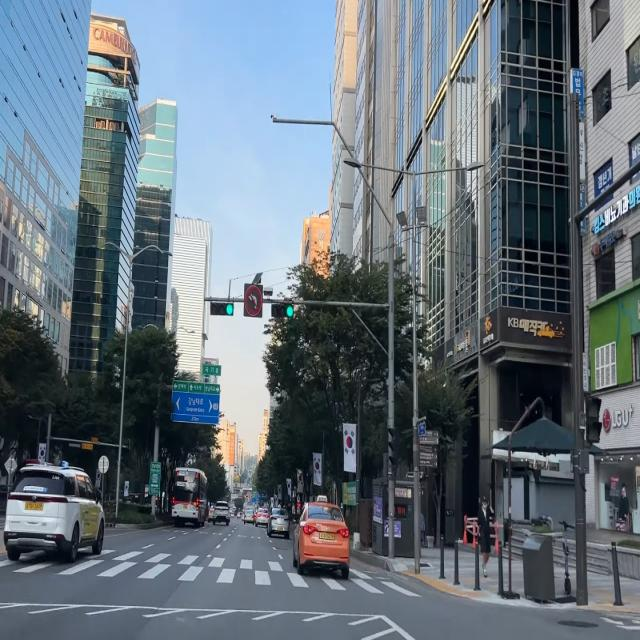Green Light: (285, 304, 293, 317), (226, 303, 233, 315)
